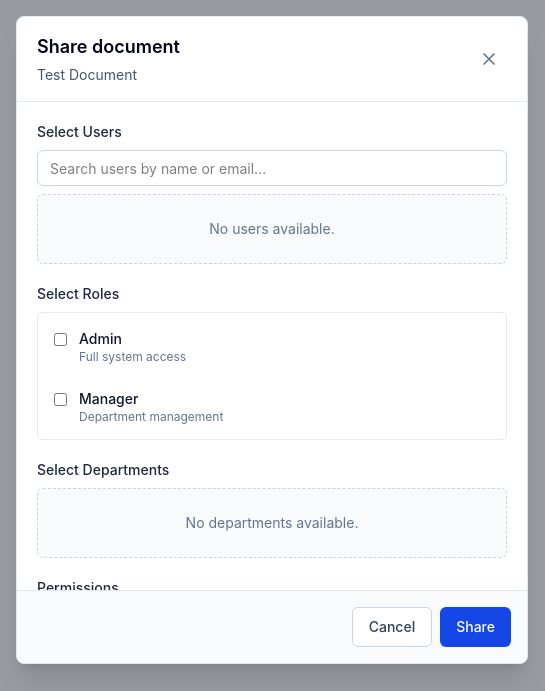
Test: ShareDialog › should show validation error if no recipient is selected
This screenshot has width=545, height=691.
Expected: the text "No users available." is shown, x1=37 y1=194 x2=507 y2=264
Click the button "Share".
click(476, 627)  # box x1=440 y1=607 x2=511 y2=647
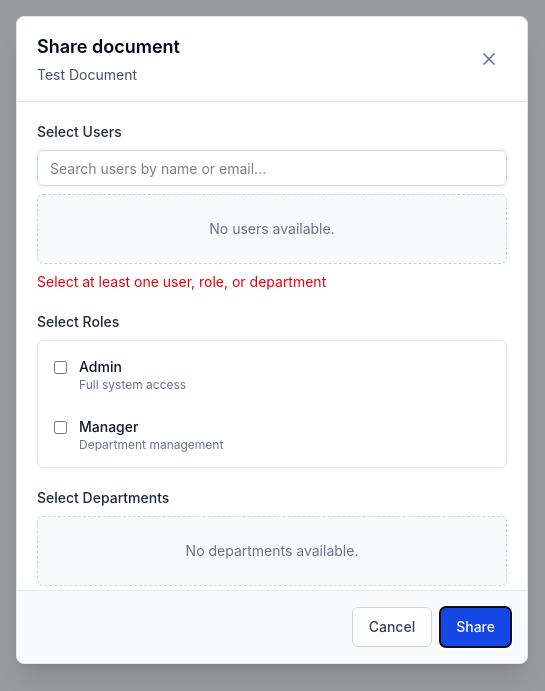
Expected: the text "Select at least one user, role, or department" is shown, x1=37 y1=273 x2=326 y2=290
